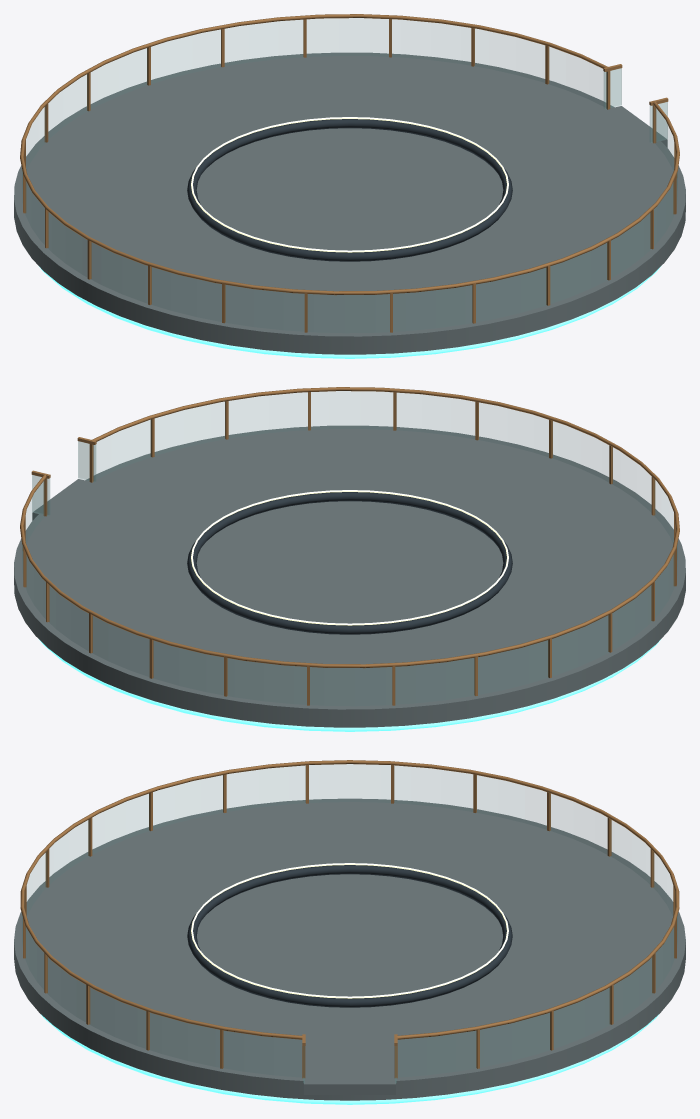
The model's file is sky-deck.lod0.glb.
3 renders of one model, top to bottom at view 1: azimuth 30°, elevation 25°; view 2: azimuth 150°, elevation 25°; view 3: azimuth 270°, elevation 25°, orthographic.
Visible parts, largest first — view 1: structure; view 2: structure; view 3: structure.
Part boxes in pixels (left/top/right/bottom): structure: left=14, top=14, right=685, bottom=358; structure: left=14, top=387, right=685, bottom=731; structure: left=14, top=760, right=685, bottom=1104.
Size of the model in its own units: 16.9 by 2.84 by 16.8.
